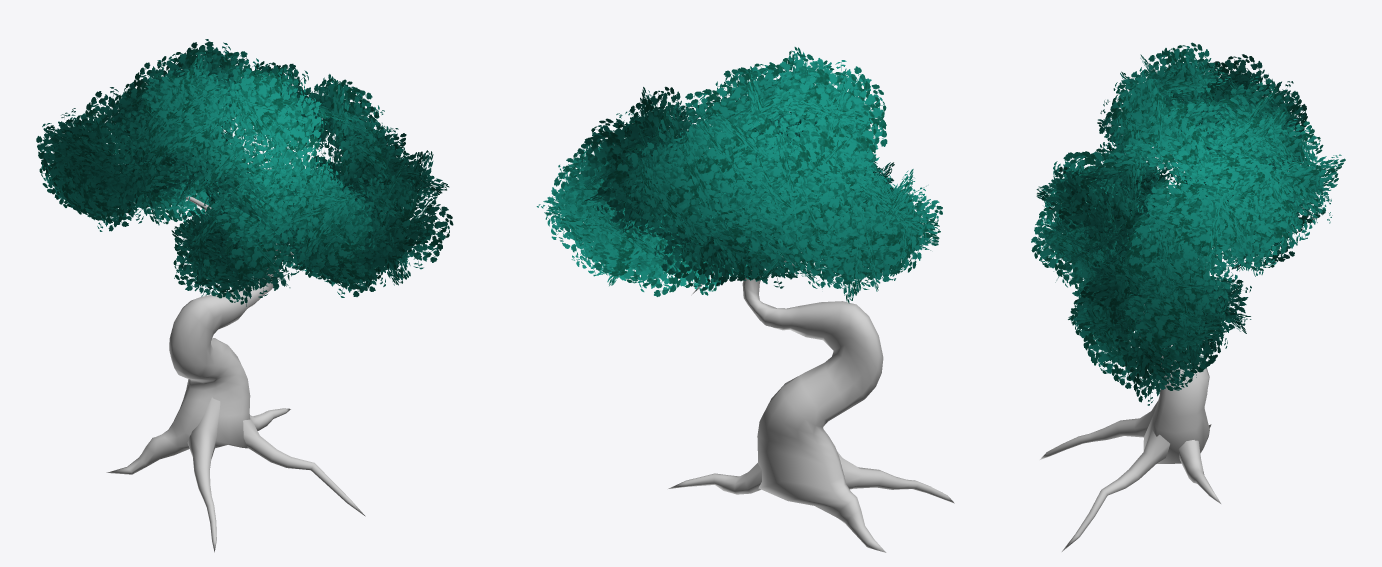
File: Tree_S1.fbx
The picture shows the model from 3 angles, left to right: view 1: azimuth 30°, elevation 25°; view 2: azimuth 150°, elevation 25°; view 3: azimuth 270°, elevation 25°; orthographic projection. The views are drawn at different scales.
Parts seen in each view (by area): view 1: Tree_S1_Leaves4, Tree_S1_Leaves2, Tree_S1_Leaves3, Tree_S1, Tree_S1_Leaves1; view 2: Tree_S1_Leaves4, Tree_S1_Leaves3, Tree_S1, Tree_S1_Leaves1; view 3: Tree_S1_Leaves4, Tree_S1_Leaves1, Tree_S1_Leaves2, Tree_S1, Tree_S1_Leaves3.
Part boxes in pixels (box(x1,y1,x2,y2)): Tree_S1_Leaves4: box(116, 39, 411, 224); Tree_S1_Leaves2: box(171, 149, 374, 306); Tree_S1_Leaves3: box(36, 76, 231, 231); Tree_S1: box(106, 196, 365, 552); Tree_S1_Leaves1: box(271, 137, 453, 297); Tree_S1_Leaves4: box(558, 47, 887, 296); Tree_S1_Leaves3: box(703, 130, 942, 303); Tree_S1: box(668, 256, 954, 552); Tree_S1_Leaves1: box(536, 134, 746, 295); Tree_S1_Leaves4: box(1092, 42, 1345, 353); Tree_S1_Leaves1: box(1062, 234, 1231, 405); Tree_S1_Leaves2: box(1031, 147, 1164, 285); Tree_S1: box(1040, 304, 1220, 551); Tree_S1_Leaves3: box(1171, 54, 1307, 208).
Bounding box in the file's own units: 758 × 824 × 581.
